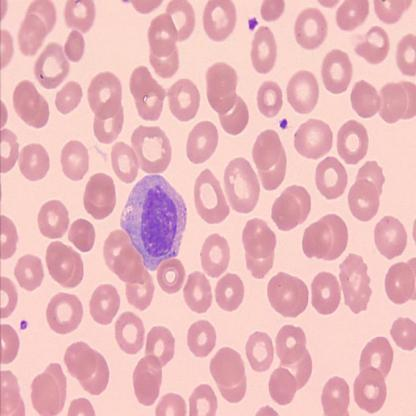Myelocyte: (119, 172, 188, 271)
